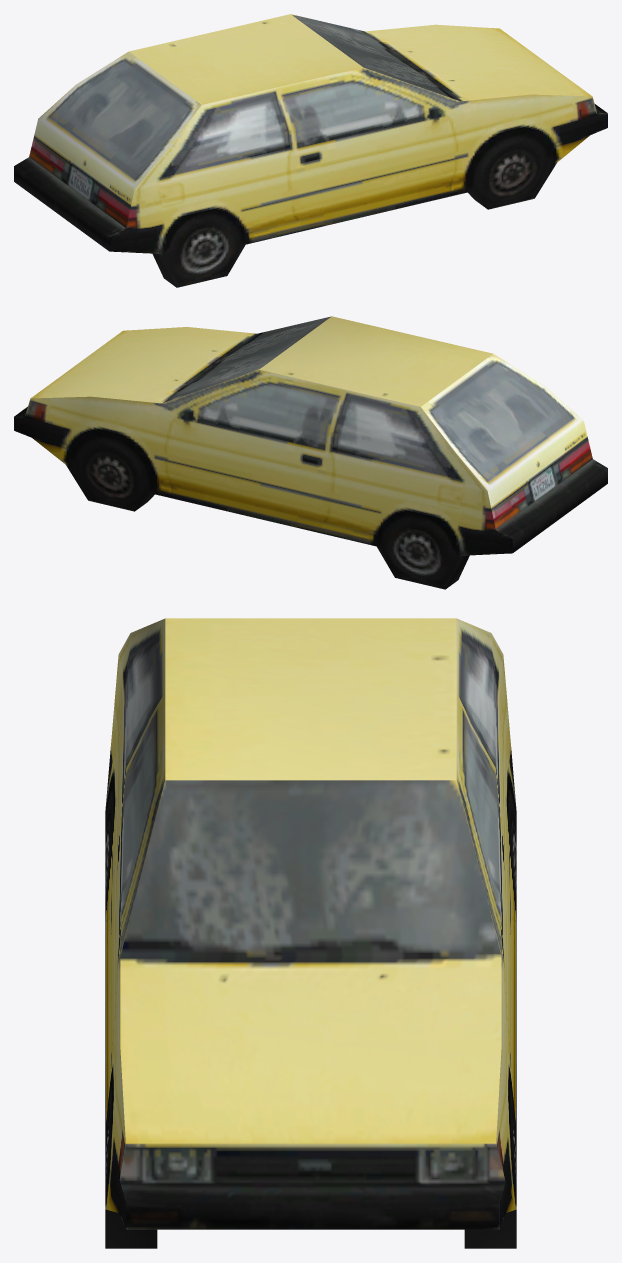
The model's file is Shared - Ground Vehicles - CV Cmp Car YL - CVCmpCarYL.glb.
3 views of the same model, one above another, from view 1: azimuth 30°, elevation 25°; view 2: azimuth 150°, elevation 25°; view 3: azimuth 270°, elevation 25° (orthographic). The views are drawn at different scales.
Parts seen in each view (by area): view 1: CVCMPCARYL; view 2: CVCMPCARYL; view 3: CVCMPCARYL.
Part boxes in pixels (bbox=[...]): CVCMPCARYL: bbox=[14, 14, 607, 287]; CVCMPCARYL: bbox=[14, 316, 607, 589]; CVCMPCARYL: bbox=[105, 618, 516, 1248].
Bounding box in the file's own units: 20.57 × 6.39 × 7.34.
Materials: 1 (1 with a texture image).
